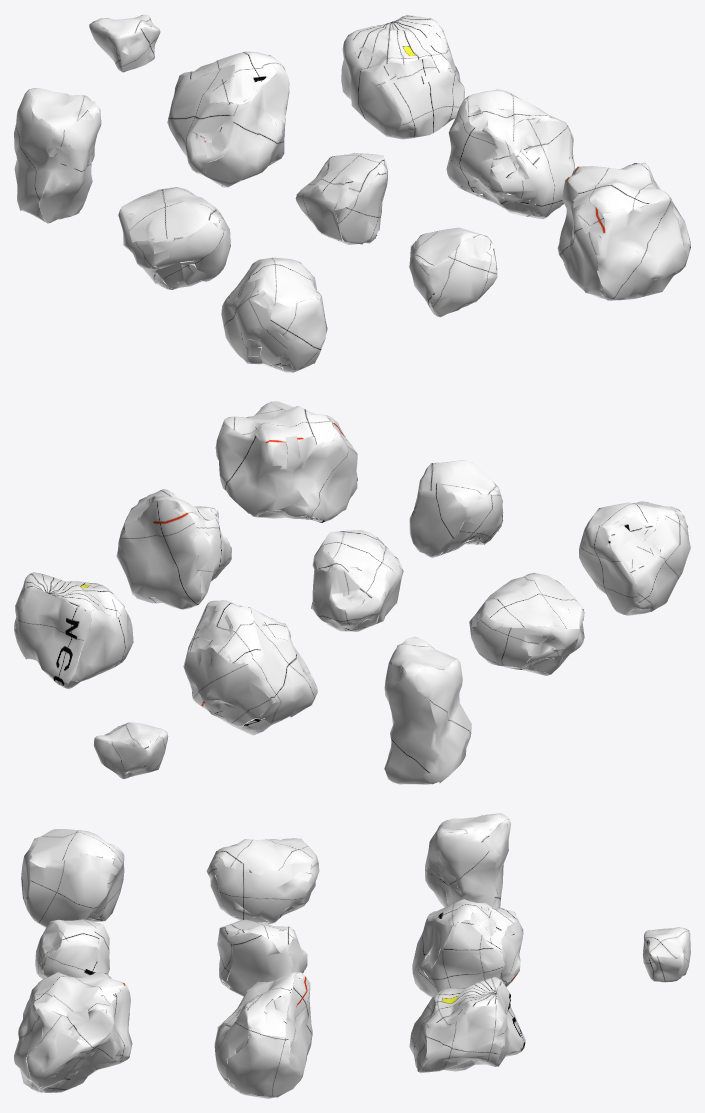
File: asteroide.obj
3 renders of one model, top to bottom at view 1: azimuth 30°, elevation 25°; view 2: azimuth 150°, elevation 25°; view 3: azimuth 270°, elevation 25°, orthographic. The views are drawn at different scales.
Visible parts, largest first — view 1: Asteroid_no_1_Material_#3_0, Asteroid_no_8_Material_#3_0, Asteroid_no_4_Material_#3_0, Asteroid_no_7_Material_#3_0, Asteroid_no_9_Material_#3_0, Asteroid_no_3_Material_#3_0, Asteroid_no_6_Material_#3_0, Asteroid_no_5_Material_#3_0, Asteroid_no_2_Material_#3_0, Asteroid_no_10_Material_#3_0; view 2: Asteroid_no_1_Material_#3_0, Asteroid_no_8_Material_#3_0, Asteroid_no_9_Material_#3_0, Asteroid_no_7_Material_#3_0, Asteroid_no_4_Material_#3_0, Asteroid_no_3_Material_#3_0, Asteroid_no_6_Material_#3_0, Asteroid_no_5_Material_#3_0, Asteroid_no_2_Material_#3_0, Asteroid_no_10_Material_#3_0; view 3: Asteroid_no_1_Material_#3_0, Asteroid_no_4_Material_#3_0, Asteroid_no_3_Material_#3_0, Asteroid_no_8_Material_#3_0, Asteroid_no_7_Material_#3_0, Asteroid_no_6_Material_#3_0, Asteroid_no_9_Material_#3_0, Asteroid_no_5_Material_#3_0, Asteroid_no_2_Material_#3_0, Asteroid_no_10_Material_#3_0.
Part boxes in pixels (x1=…): Asteroid_no_1_Material_#3_0: x1=557, y1=162, x2=690, y2=300; Asteroid_no_8_Material_#3_0: x1=167, y1=51, x2=289, y2=187; Asteroid_no_4_Material_#3_0: x1=446, y1=89, x2=575, y2=219; Asteroid_no_7_Material_#3_0: x1=341, y1=15, x2=465, y2=139; Asteroid_no_9_Material_#3_0: x1=14, y1=88, x2=101, y2=223; Asteroid_no_3_Material_#3_0: x1=221, y1=257, x2=327, y2=372; Asteroid_no_6_Material_#3_0: x1=118, y1=187, x2=230, y2=289; Asteroid_no_5_Material_#3_0: x1=295, y1=152, x2=387, y2=244; Asteroid_no_2_Material_#3_0: x1=409, y1=227, x2=497, y2=317; Asteroid_no_10_Material_#3_0: x1=89, y1=14, x2=160, y2=72; Asteroid_no_1_Material_#3_0: x1=215, y1=401, x2=357, y2=522; Asteroid_no_8_Material_#3_0: x1=183, y1=600, x2=317, y2=735; Asteroid_no_9_Material_#3_0: x1=384, y1=636, x2=471, y2=784; Asteroid_no_7_Material_#3_0: x1=14, y1=572, x2=133, y2=688; Asteroid_no_4_Material_#3_0: x1=116, y1=489, x2=231, y2=609; Asteroid_no_3_Material_#3_0: x1=579, y1=501, x2=690, y2=615; Asteroid_no_6_Material_#3_0: x1=469, y1=573, x2=584, y2=675; Asteroid_no_5_Material_#3_0: x1=311, y1=530, x2=403, y2=631; Asteroid_no_2_Material_#3_0: x1=409, y1=460, x2=503, y2=557; Asteroid_no_10_Material_#3_0: x1=93, y1=722, x2=168, y2=779; Asteroid_no_1_Material_#3_0: x1=14, y1=972, x2=132, y2=1092; Asteroid_no_4_Material_#3_0: x1=214, y1=972, x2=312, y2=1098; Asteroid_no_3_Material_#3_0: x1=21, y1=829, x2=124, y2=927; Asteroid_no_8_Material_#3_0: x1=412, y1=899, x2=523, y2=997; Asteroid_no_7_Material_#3_0: x1=409, y1=977, x2=525, y2=1073; Asteroid_no_6_Material_#3_0: x1=206, y1=838, x2=319, y2=923; Asteroid_no_9_Material_#3_0: x1=425, y1=813, x2=510, y2=907; Asteroid_no_5_Material_#3_0: x1=217, y1=919, x2=307, y2=996; Asteroid_no_2_Material_#3_0: x1=35, y1=919, x2=109, y2=978; Asteroid_no_10_Material_#3_0: x1=642, y1=927, x2=690, y2=982.
Size of the model in its own units: 2.96 by 0.7837 by 4.15.
